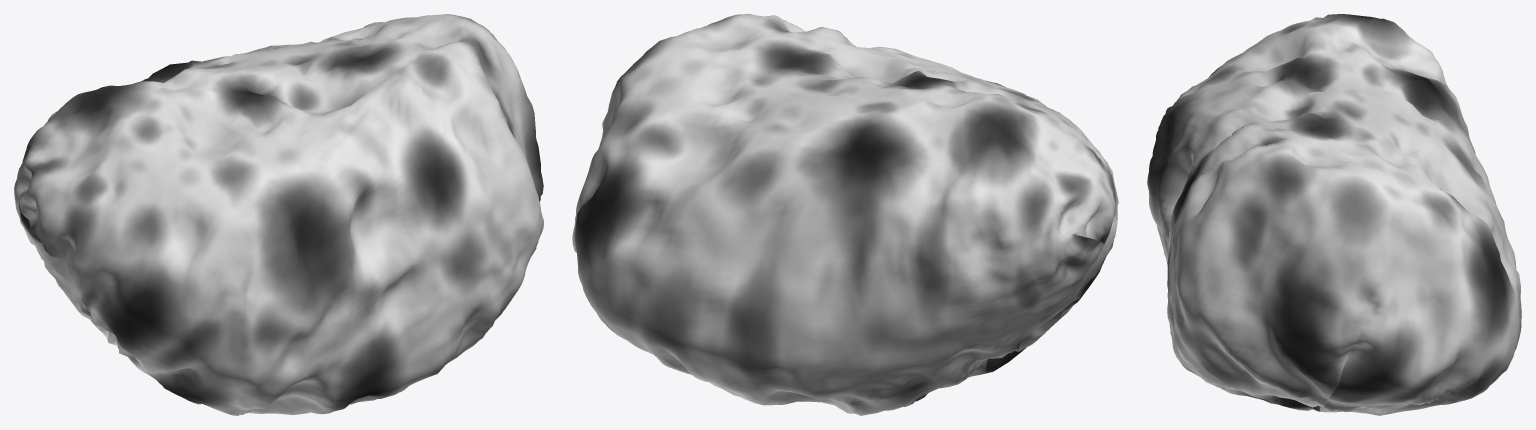
Rendered from asteroids2.fbx.
3 views of the same model, side by side, from view 1: azimuth 30°, elevation 25°; view 2: azimuth 150°, elevation 25°; view 3: azimuth 270°, elevation 25° (orthographic). The views are drawn at different scales.
Visible parts, largest first — view 1: asteroid2Baked; view 2: asteroid2Baked; view 3: asteroid2Baked.
Part boxes in pixels (box(x1,y1,x2,y2)): asteroid2Baked: box(14, 14, 543, 415); asteroid2Baked: box(572, 14, 1118, 415); asteroid2Baked: box(1147, 14, 1521, 415).
Bounding box in the file's own units: 212 × 135 × 150.
